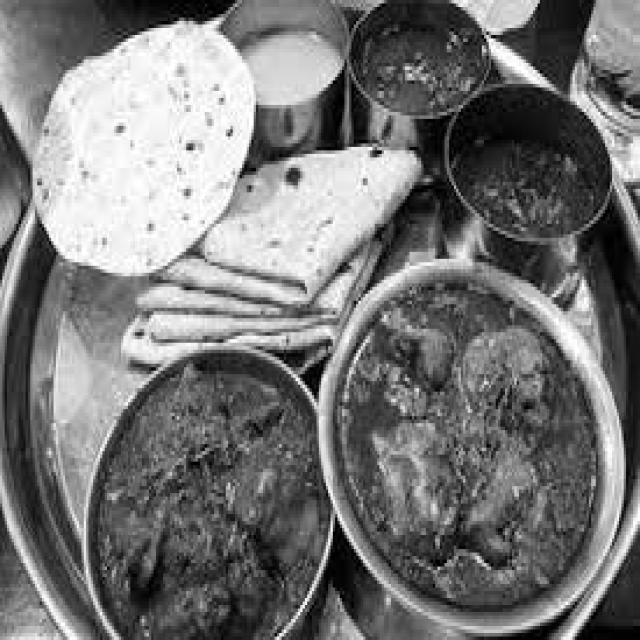ROTI: (33, 21, 251, 269)
